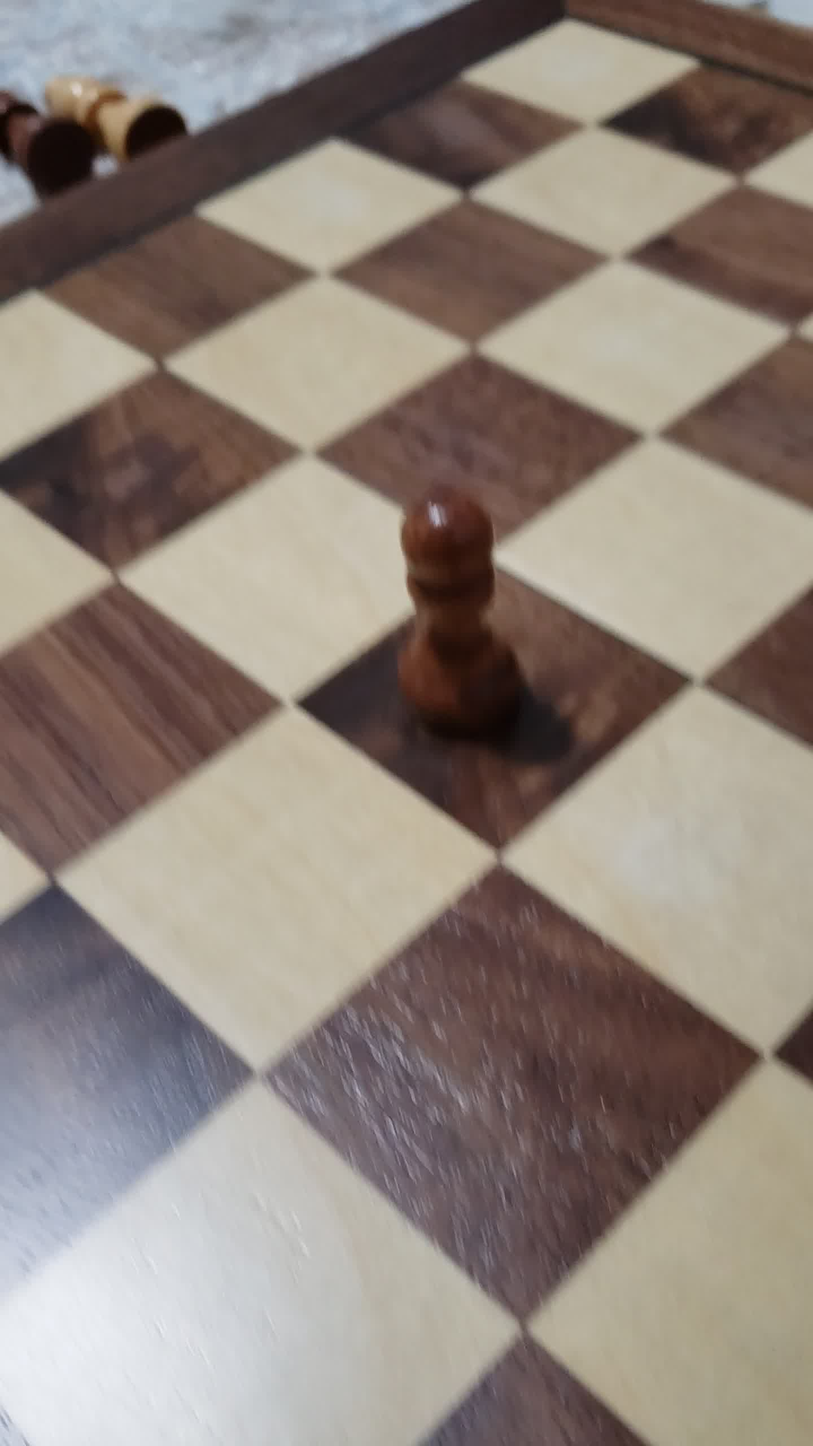black-pawn: (370, 450, 546, 755)
